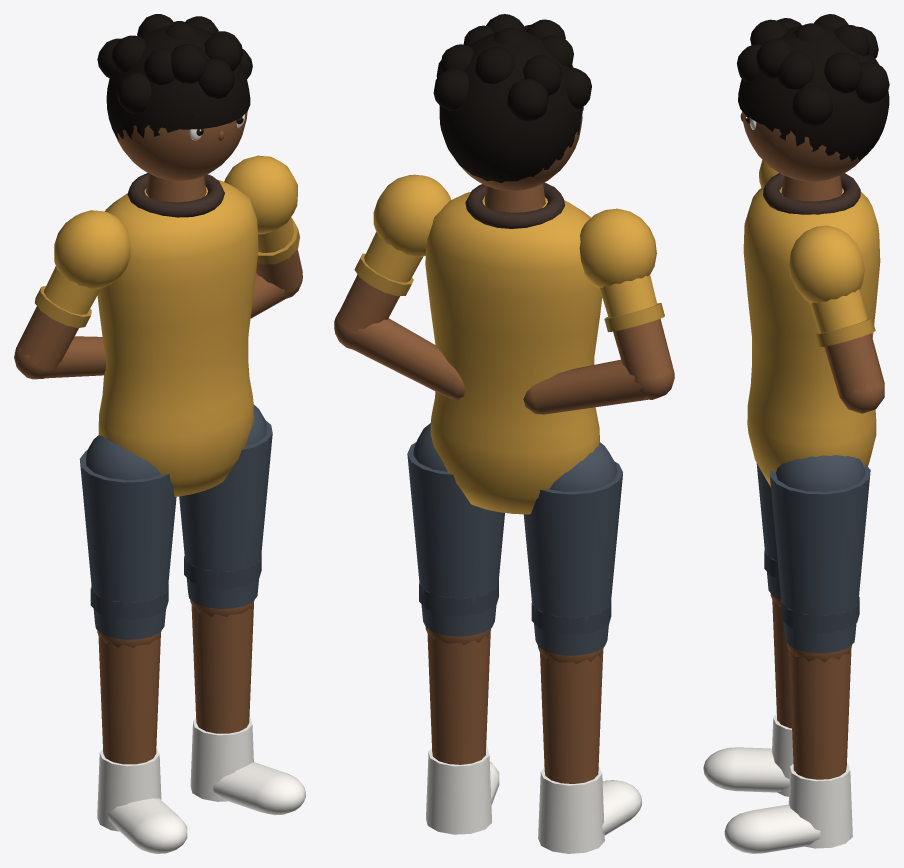
The model's file is 11-edo.glb.
The picture shows the model from 3 angles, left to right: view 1: azimuth 30°, elevation 25°; view 2: azimuth 150°, elevation 25°; view 3: azimuth 270°, elevation 25°; orthographic projection. The views are drawn at different scales.
Parts seen in each view (by area): view 1: Edo, skull, armR, armL, elbow (×2); view 2: Edo, skull, elbow (×2), armR, armL; view 3: Edo, skull, armL, elbow.
Boxes of the visible parts, <box> form: Edo: <box>79,173,305,853</box>; skull: <box>97,14,252,180</box>; armR: <box>16,210,130,369</box>; armL: <box>224,155,302,291</box>; elbow (×2): <box>14,272,302,379</box>; Edo: <box>407,182,641,853</box>; skull: <box>433,14,591,190</box>; elbow (×2): <box>334,312,674,414</box>; armR: <box>579,208,672,380</box>; armL: <box>336,174,451,331</box>; Edo: <box>703,173,880,853</box>; skull: <box>737,14,889,181</box>; armL: <box>789,225,884,396</box>; elbow: <box>839,383,884,413</box>.
Size of the model in its own units: 0.5257 by 1.29 by 0.2755.
